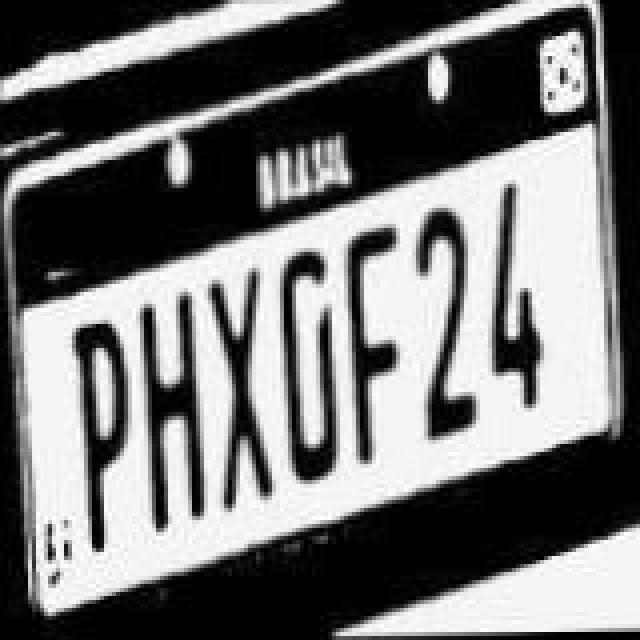2: (410, 204, 482, 444)
4: (480, 180, 548, 416)
D: (272, 246, 340, 486)
F: (338, 222, 402, 470)
H: (138, 292, 206, 536)
P: (66, 316, 134, 556)
X: (208, 266, 280, 518)
